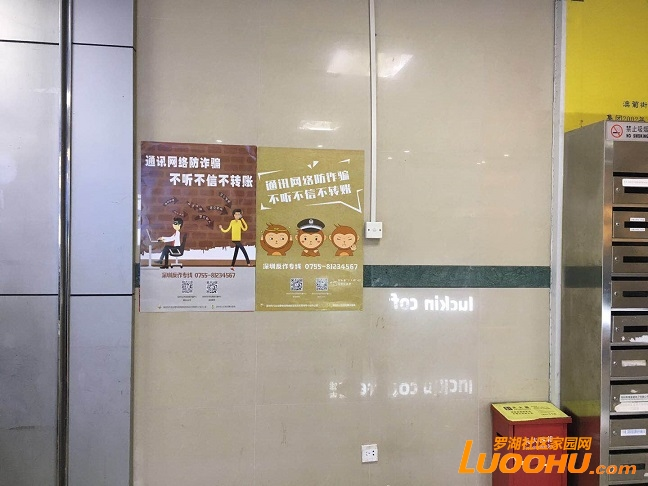bill: (142, 141, 255, 311), (255, 144, 363, 311)
